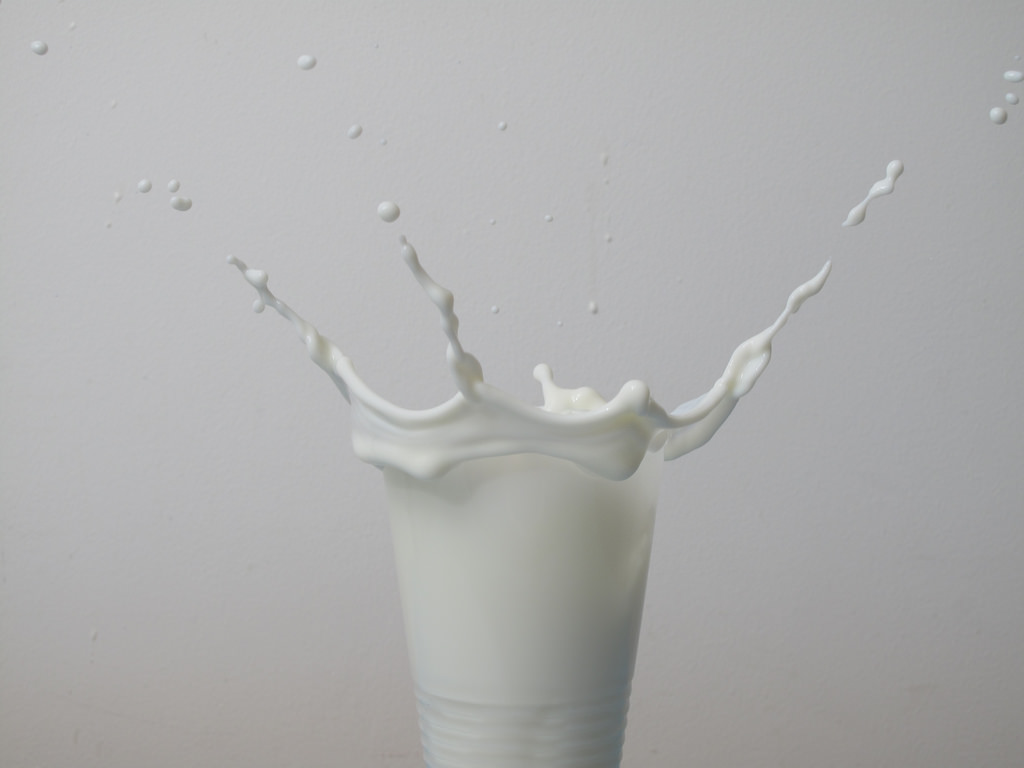glass of milk: (235, 251, 828, 768)
